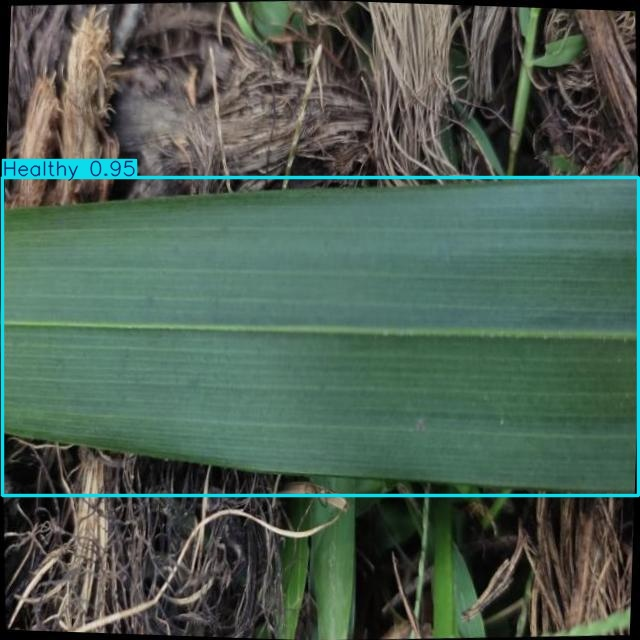Healthy: (2, 178, 638, 495)
